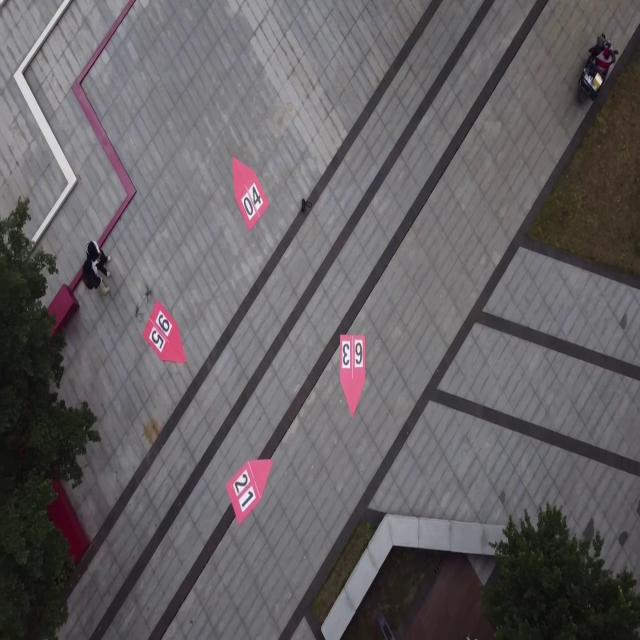-sign-: (227, 458, 273, 526), (232, 156, 270, 232), (143, 301, 187, 366), (338, 333, 366, 419)
